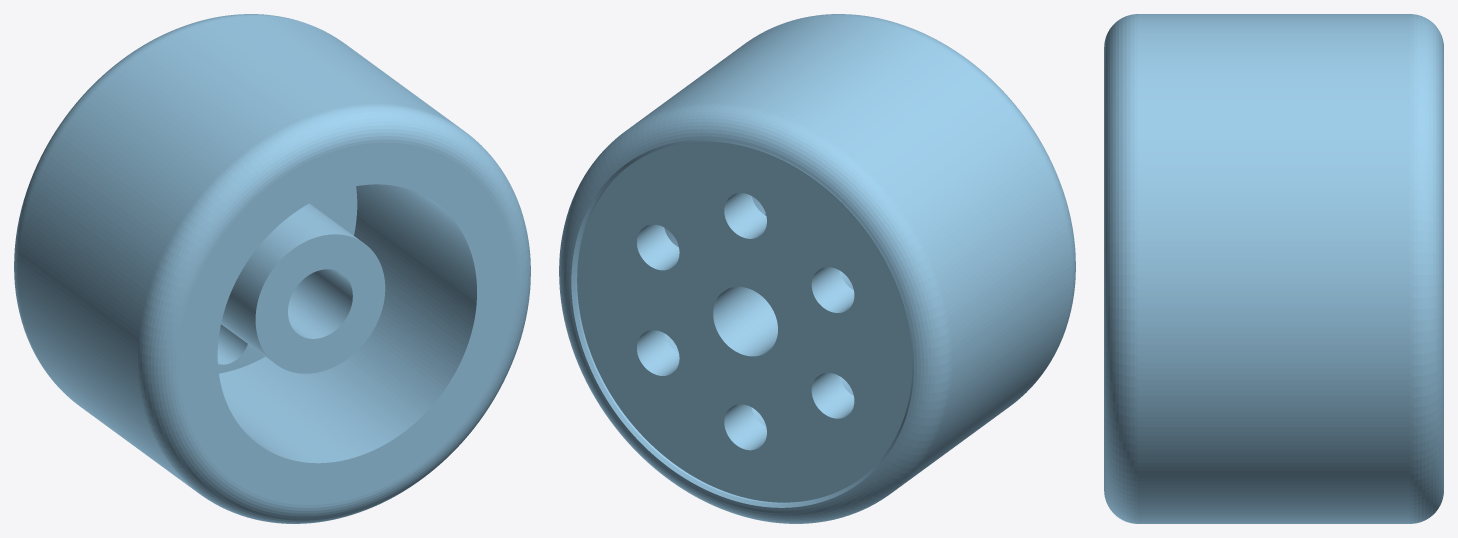
File: Wheel.dae
The picture shows the model from 3 angles, left to right: view 1: azimuth 30°, elevation 25°; view 2: azimuth 150°, elevation 25°; view 3: azimuth 270°, elevation 25°; orthographic projection. The views are drawn at different scales.
Visible parts, largest first — view 1: 5df7c53a0fb20315857c537c; view 2: 5df7c53a0fb20315857c537c; view 3: 5df7c53a0fb20315857c537c.
Part boxes in pixels (<box>): 5df7c53a0fb20315857c537c: <box>14,14,530,523</box>; 5df7c53a0fb20315857c537c: <box>559,14,1075,523</box>; 5df7c53a0fb20315857c537c: <box>1104,14,1443,523</box>.
Bounding box in the file's own units: 0.15 × 0.0999 × 0.15.
